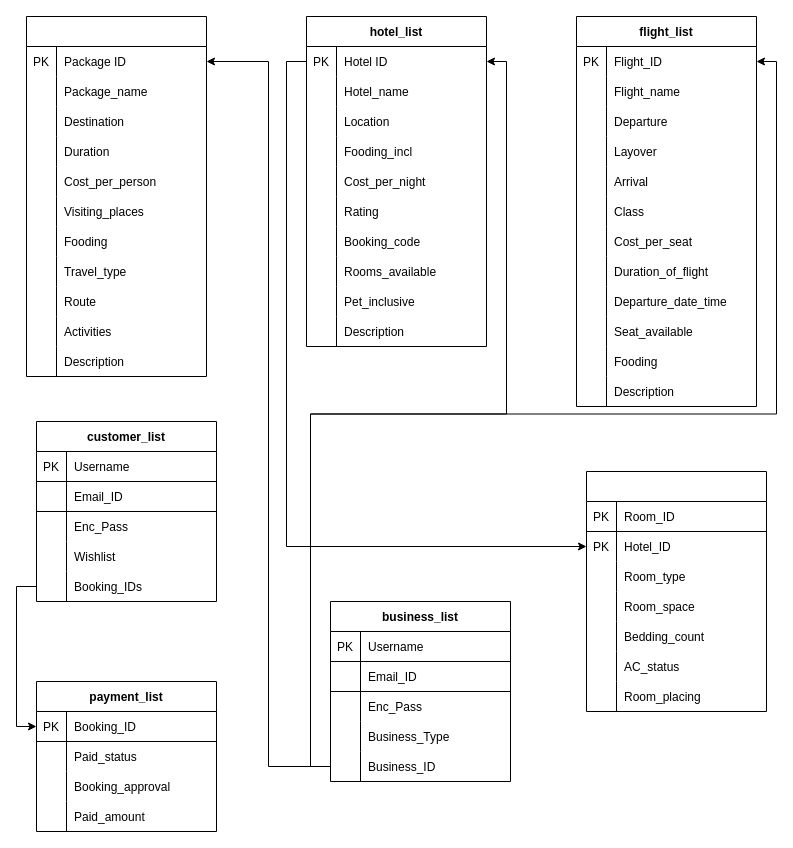
Some shapes in this 793 by 848 pixel diagram are drawn without their labels. The shapes that lost their labels are listed below. From the top down, each one's box as (x1, y1, x2, y2) in pixels, then its label:
(26, 16, 206, 376): package_list
(586, 470, 766, 712): room_list
